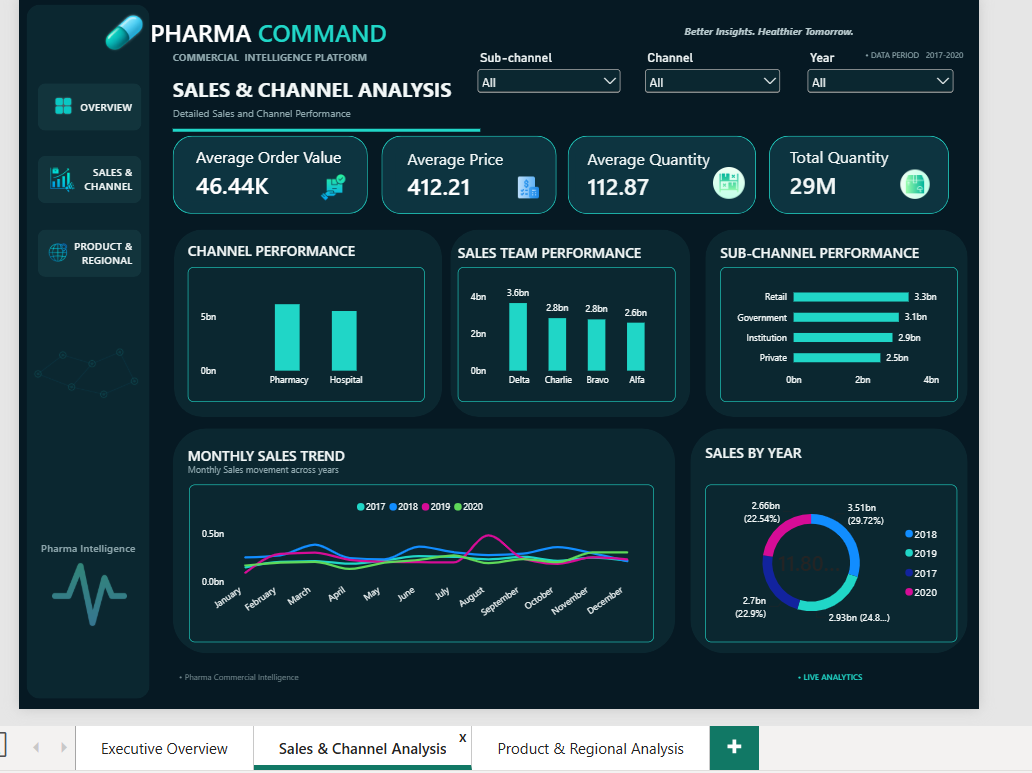

This screenshot's page, from the dashboard's own definition file:
{"tool":"powerbi","page":{"name":"Sales & Channel Analysis","canvas":[1280,950],"ordinal":1},"visuals":[{"type":"shape","box":[10,10,164.3,925.7],"z":0},{"type":"textbox","box":[175,25,380,45],"z":1000},{"type":"textbox","box":[205,70,350,25],"z":2000},{"type":"textbox","box":[850,35,300,30],"z":3000},{"type":"image","box":[91.9,0,96.1,94.7],"z":4000},{"type":"textbox","box":[205,105,400,40],"z":5000},{"type":"textbox","box":[205,145,430,25],"z":6000},{"type":"shape","box":[205.7,185.7,260,104.3],"z":7000},{"type":"cardVisual","fields":{"Data":["pharma-data.Average Order Value"]},"box":[220,198.6,235.7,74.3],"z":8000},{"type":"shape","box":[483.3,184.4,233.3,104.4],"z":9000},{"type":"cardVisual","fields":{"Data":["pharma-data.Average Price"]},"box":[502.2,200,203.3,75.6],"z":10000},{"type":"shape","box":[731.1,185.6,251.1,104.4],"z":11000},{"type":"cardVisual","fields":{"Data":["pharma-data.Average Quantity"]},"box":[742.2,200,228.9,75.6],"z":12000},{"type":"shape","box":[1000,185.6,240,104.4],"z":13000},{"type":"cardVisual","fields":{"Data":["pharma-data.Total Quantity"]},"box":[1011.1,198.9,217.8,74.4],"z":14000},{"type":"shape","box":[206.2,310,357.5,250],"z":15000},{"type":"textbox","box":[225,325,250,30],"z":16000},{"type":"clusteredColumnChart","fields":{"Category":["pharma-data.Channel"],"Y":["pharma-data.Total Sales"]},"box":[225.7,360,315.7,180],"z":17000},{"type":"shape","box":[915.7,310,350,250],"z":18000},{"type":"textbox","box":[934.3,328.6,277.1,25.7],"z":19000},{"type":"clusteredBarChart","fields":{"Category":["pharma-data.Sub-channel"],"Y":["pharma-data.Total Sales"]},"box":[934.3,360,317.1,180],"z":20000},{"type":"shape","box":[205.7,575.7,670,300],"z":21000},{"type":"textbox","box":[225,597.5,300,32.5],"z":22000},{"type":"lineChart","fields":{"Category":["pharma-data.Month Display"],"Series":["pharma-data.Year"],"Y":["pharma-data.Total Sales"]},"box":[227.1,650,620,210],"z":23000},{"type":"textbox","box":[225,620,350,20],"z":24000},{"type":"shape","box":[895.7,575.7,370,300],"z":25000},{"type":"textbox","box":[915.7,595.7,280,34.3],"z":26000},{"type":"donutChart","fields":{"Category":["pharma-data.Year"],"Y":["pharma-data.Total Sales"]},"box":[915.7,650,335.7,210],"z":27000},{"type":"slicer","fields":{"Values":["pharma-data.Year"]},"box":[1047.1,70,204.3,75.7],"z":28000},{"type":"slicer","fields":{"Values":["pharma-data.Channel"]},"box":[830,70,190,87.5],"z":29000},{"type":"slicer","fields":{"Values":["pharma-data.Sub-channel"]},"box":[606.2,70,200,75],"z":30000},{"type":"textbox","box":[205,900,500,20],"z":31000},{"type":"textbox","box":[1030,900,180,20],"z":32000},{"type":"shape","box":[205,171.7,410,12],"z":33000},{"type":"textbox","box":[1120,70,160,30],"z":34000},{"type":"actionButton","box":[25,115,138.3,63.3],"z":35000},{"type":"actionButton","box":[25,211.7,138.3,63.3],"z":36000},{"type":"actionButton","box":[25,310,138.3,63.3],"z":37000},{"type":"image","box":[40,105,38.3,80],"z":38000},{"type":"image","box":[42,226,33,34],"z":39000},{"type":"image","box":[25,328,53,25],"z":40000},{"type":"image","box":[382.2,235.6,74.4,37.8],"z":41000},{"type":"image","box":[1136.2,230,115.6,38.9],"z":42000},{"type":"image","box":[641,238,75,31],"z":43000},{"type":"image","box":[893.8,226.2,106.2,42.5],"z":44000},{"type":"shape","box":[575.7,310,320,250],"z":45000},{"type":"clusteredColumnChart","fields":{"Category":["pharma-data.Sales Team"],"Y":["pharma-data.Total Sales"]},"box":[585.7,360,290,180],"z":46000},{"type":"textbox","box":[585,327.5,308.8,73.8],"z":47000},{"type":"image","box":[0,391.7,175,221.7],"z":48000},{"type":"textbox","box":[25,725,135,30],"z":49000},{"type":"image","box":[0,746.7,188.3,100],"z":50000}]}

Visuals, with their boxes on the page's 1280x950 design canvas (x1, y1, x2, y2). These are canvas units, not pixel positions in the 1032x773 screenshot, which may show the page scaled, cropped or inside an application window:
shape: locate(10, 10, 174, 936)
textbox: locate(175, 25, 555, 70)
textbox: locate(205, 70, 555, 95)
textbox: locate(850, 35, 1150, 65)
image: locate(92, 0, 188, 95)
textbox: locate(205, 105, 605, 145)
textbox: locate(205, 145, 635, 170)
shape: locate(206, 186, 466, 290)
cardVisual - pharma-data.Average Order Value: locate(220, 199, 456, 273)
shape: locate(483, 184, 717, 289)
cardVisual - pharma-data.Average Price: locate(502, 200, 706, 276)
shape: locate(731, 186, 982, 290)
cardVisual - pharma-data.Average Quantity: locate(742, 200, 971, 276)
shape: locate(1000, 186, 1240, 290)
cardVisual - pharma-data.Total Quantity: locate(1011, 199, 1229, 273)
shape: locate(206, 310, 564, 560)
textbox: locate(225, 325, 475, 355)
clusteredColumnChart - pharma-data.Channel x pharma-data.Total Sales: locate(226, 360, 541, 540)
shape: locate(916, 310, 1266, 560)
textbox: locate(934, 329, 1211, 354)
clusteredBarChart - pharma-data.Sub-channel x pharma-data.Total Sales: locate(934, 360, 1251, 540)
shape: locate(206, 576, 876, 876)
textbox: locate(225, 598, 525, 630)
lineChart - pharma-data.Month Display x pharma-data.Year: locate(227, 650, 847, 860)
textbox: locate(225, 620, 575, 640)
shape: locate(896, 576, 1266, 876)
textbox: locate(916, 596, 1196, 630)
donutChart - pharma-data.Year x pharma-data.Total Sales: locate(916, 650, 1251, 860)
slicer - pharma-data.Year: locate(1047, 70, 1251, 146)
slicer - pharma-data.Channel: locate(830, 70, 1020, 158)
slicer - pharma-data.Sub-channel: locate(606, 70, 806, 145)
textbox: locate(205, 900, 705, 920)
textbox: locate(1030, 900, 1210, 920)
shape: locate(205, 172, 615, 184)
textbox: locate(1120, 70, 1280, 100)
actionButton: locate(25, 115, 163, 178)
actionButton: locate(25, 212, 163, 275)
actionButton: locate(25, 310, 163, 373)
image: locate(40, 105, 78, 185)
image: locate(42, 226, 75, 260)
image: locate(25, 328, 78, 353)
image: locate(382, 236, 457, 273)
image: locate(1136, 230, 1252, 269)
image: locate(641, 238, 716, 269)
image: locate(894, 226, 1000, 269)
shape: locate(576, 310, 896, 560)
clusteredColumnChart - pharma-data.Sales Team x pharma-data.Total Sales: locate(586, 360, 876, 540)
textbox: locate(585, 328, 894, 401)
image: locate(0, 392, 175, 613)
textbox: locate(25, 725, 160, 755)
image: locate(0, 747, 188, 847)
